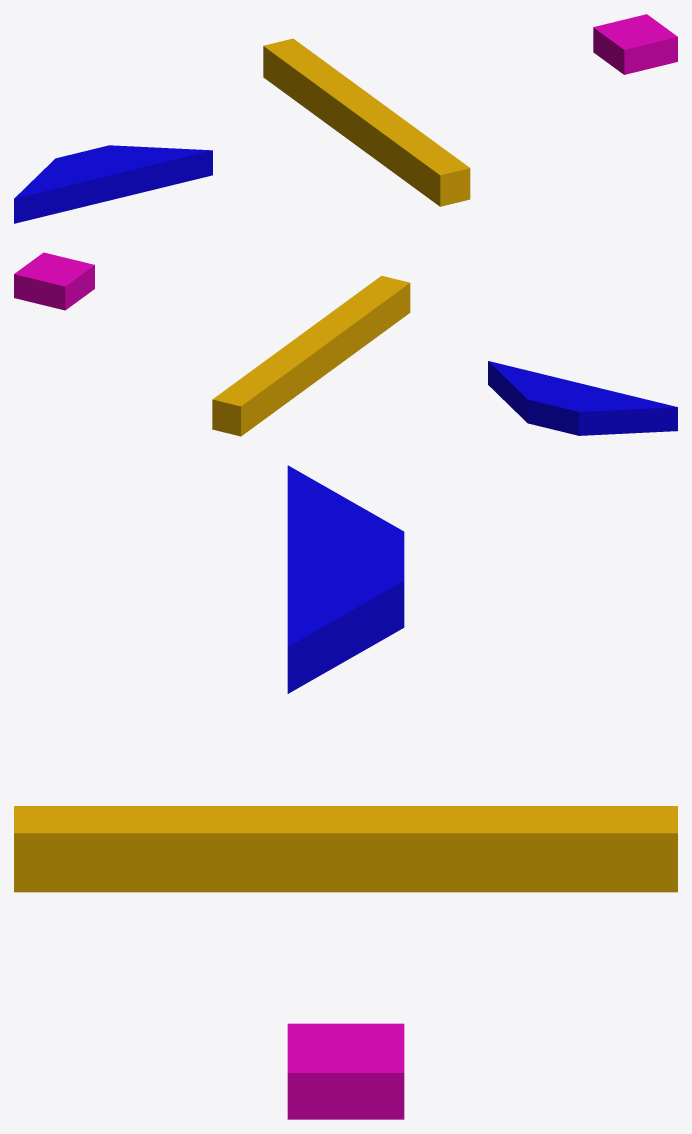
File: Item.glb
3 views of the same model, one above another, from view 1: azimuth 30°, elevation 25°; view 2: azimuth 150°, elevation 25°; view 3: azimuth 270°, elevation 25° (orthographic). The views are drawn at different scales.
Parts seen in each view (by area): view 1: ItemStick, ItemBlue, ItemSquare; view 2: ItemStick, ItemBlue, ItemSquare; view 3: ItemStick, ItemBlue, ItemSquare.
Part boxes in pixels (left/top/right/bottom): ItemStick: left=263, top=38, right=470, bottom=206; ItemBlue: left=14, top=145, right=212, bottom=223; ItemSquare: left=593, top=14, right=677, bottom=74; ItemStick: left=212, top=275, right=410, bottom=436; ItemBlue: left=488, top=361, right=677, bottom=435; ItemSquare: left=14, top=252, right=94, bottom=310; ItemStick: left=14, top=806, right=677, bottom=892; ItemBlue: left=287, top=465, right=404, bottom=693; ItemSquare: left=287, top=1023, right=404, bottom=1119.
Size of the model in its own units: 2.47 by 0.145 by 1.14.
